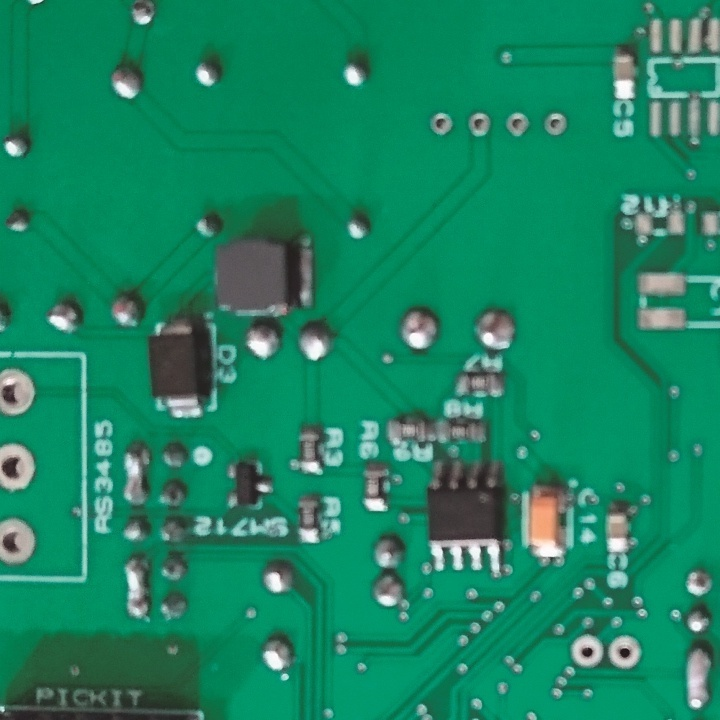F: (1, 366, 39, 421), (1, 442, 39, 495), (1, 517, 38, 570), (571, 633, 605, 669), (607, 635, 641, 671), (684, 569, 714, 600), (465, 109, 492, 138), (430, 109, 455, 140), (541, 112, 567, 137), (506, 111, 529, 136)
P: (121, 440, 152, 509), (683, 643, 713, 713), (123, 552, 152, 622)
